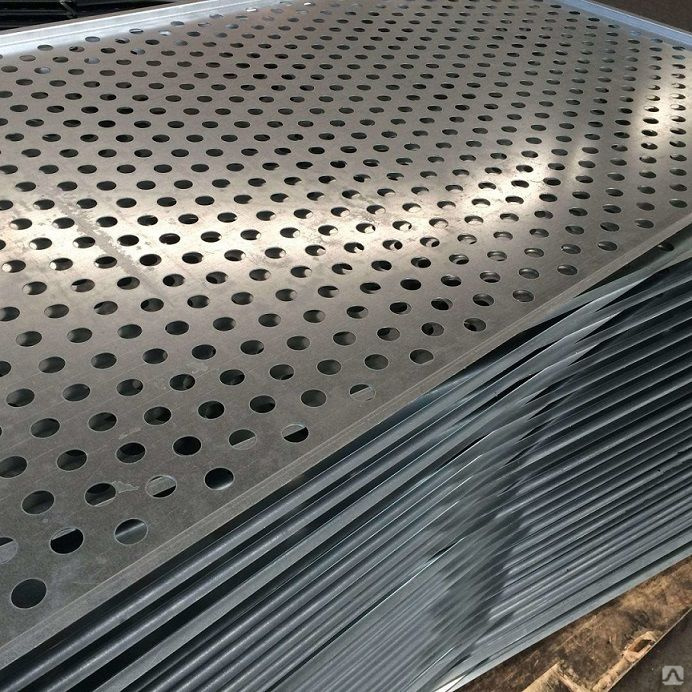Hole: (109, 514, 157, 550), (7, 575, 52, 613), (46, 523, 88, 556), (200, 463, 240, 496), (78, 479, 120, 510), (17, 486, 58, 517), (294, 384, 334, 413), (143, 470, 181, 500), (170, 432, 207, 462), (52, 445, 90, 474), (225, 425, 261, 454), (111, 438, 149, 465), (278, 420, 314, 448), (26, 414, 63, 441), (3, 385, 40, 412), (246, 391, 280, 418), (193, 396, 227, 423), (140, 403, 175, 427), (85, 409, 120, 433), (59, 380, 94, 404), (86, 350, 122, 373), (113, 377, 149, 399), (36, 355, 72, 376), (166, 371, 199, 393), (140, 345, 171, 368), (265, 361, 297, 383), (361, 350, 393, 372), (90, 296, 122, 318), (216, 367, 249, 388), (208, 313, 241, 334), (13, 327, 44, 349), (114, 322, 147, 342), (406, 346, 436, 368), (631, 213, 661, 235), (313, 357, 344, 378), (64, 324, 95, 345), (462, 313, 490, 336), (188, 342, 218, 363), (299, 306, 329, 327), (417, 318, 447, 339), (313, 281, 346, 300), (469, 289, 497, 311), (257, 309, 286, 330), (283, 333, 313, 353), (19, 277, 49, 297), (329, 329, 360, 348), (41, 301, 72, 320), (344, 301, 372, 322), (408, 252, 436, 273), (158, 270, 187, 290), (178, 247, 207, 267), (388, 297, 413, 320), (510, 284, 537, 305), (220, 245, 248, 265), (114, 274, 143, 293), (287, 262, 316, 281), (1, 257, 30, 276), (91, 254, 120, 273), (358, 278, 384, 299), (238, 339, 270, 356), (163, 318, 191, 337), (341, 238, 369, 257), (67, 277, 96, 295), (398, 274, 425, 293), (46, 256, 78, 272), (135, 251, 165, 268), (28, 196, 58, 213), (203, 269, 231, 287), (515, 264, 543, 282), (329, 259, 354, 279), (301, 242, 330, 259), (48, 214, 77, 231), (376, 325, 403, 343), (428, 294, 455, 312), (138, 296, 165, 314), (69, 234, 99, 250), (557, 241, 585, 258), (369, 256, 394, 275), (439, 271, 464, 290), (594, 237, 620, 255), (262, 244, 288, 262), (185, 291, 212, 308), (246, 266, 273, 283), (114, 232, 141, 249), (479, 268, 503, 287), (554, 261, 582, 277), (11, 178, 39, 194), (273, 286, 299, 303), (597, 218, 623, 235), (26, 236, 55, 251), (92, 215, 121, 230), (316, 221, 340, 239), (446, 251, 472, 267), (519, 245, 548, 259), (133, 213, 160, 228), (237, 227, 264, 242), (55, 178, 80, 194), (93, 178, 118, 194), (232, 190, 257, 206), (381, 236, 406, 252), (418, 233, 443, 249), (456, 230, 481, 246), (72, 196, 100, 210), (155, 193, 178, 210), (563, 221, 586, 238), (157, 231, 183, 246), (176, 210, 200, 226), (216, 210, 240, 226), (291, 207, 318, 221), (229, 290, 254, 305), (485, 250, 510, 265), (8, 216, 33, 231), (278, 225, 303, 240), (114, 196, 140, 210), (199, 229, 223, 244), (269, 191, 292, 206), (254, 209, 280, 222), (193, 194, 217, 208), (208, 175, 232, 189), (491, 229, 515, 243), (527, 226, 551, 240), (246, 175, 269, 189), (19, 146, 43, 159), (134, 178, 158, 191), (37, 162, 59, 176), (23, 117, 48, 129), (113, 104, 138, 116), (150, 131, 171, 145), (152, 161, 173, 175), (188, 161, 212, 173), (60, 117, 84, 129), (78, 131, 100, 144), (114, 132, 136, 145), (115, 162, 137, 175), (79, 103, 101, 116), (132, 147, 155, 159), (204, 145, 225, 158), (148, 105, 170, 117), (57, 147, 80, 158), (170, 147, 191, 159), (173, 178, 194, 190), (62, 91, 84, 102), (8, 103, 30, 114), (185, 132, 205, 144), (97, 117, 117, 129), (29, 89, 49, 101), (82, 78, 102, 90), (98, 91, 118, 103), (225, 160, 245, 172), (41, 132, 62, 143), (45, 103, 66, 114), (129, 92, 150, 103), (147, 79, 166, 91), (47, 78, 69, 88), (177, 81, 197, 92), (163, 93, 183, 104), (114, 79, 133, 90)
